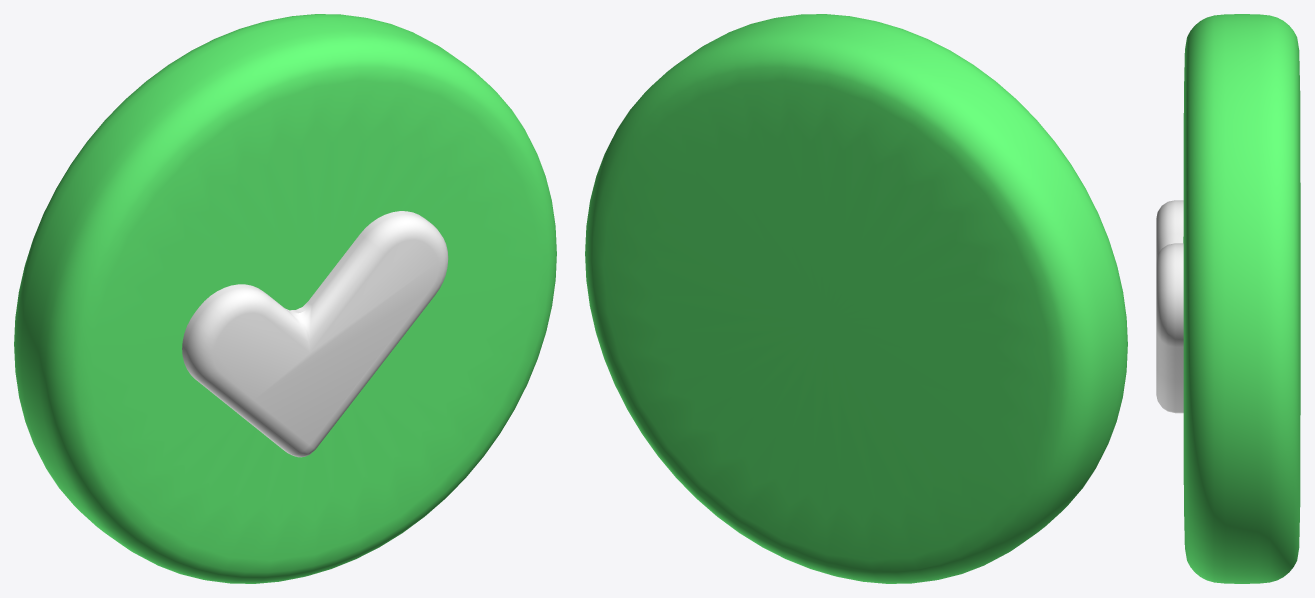
3 renders of one model, left to right at view 1: azimuth 30°, elevation 25°; view 2: azimuth 150°, elevation 25°; view 3: azimuth 270°, elevation 25°, orthographic. The views are drawn at different scales.
Parts seen in each view (by area): view 1: Cylinder, Cube.001; view 2: Cylinder; view 3: Cylinder, Cube.001.
Boxes of the visible parts, x1,y1,x2,y2 form: Cylinder: (14,14,556,583); Cube.001: (182,211,448,457); Cylinder: (585,14,1127,583); Cylinder: (1183,14,1300,583); Cube.001: (1156,200,1183,413).
Size of the model in its own units: 1.5 by 1.5 by 0.3806.
